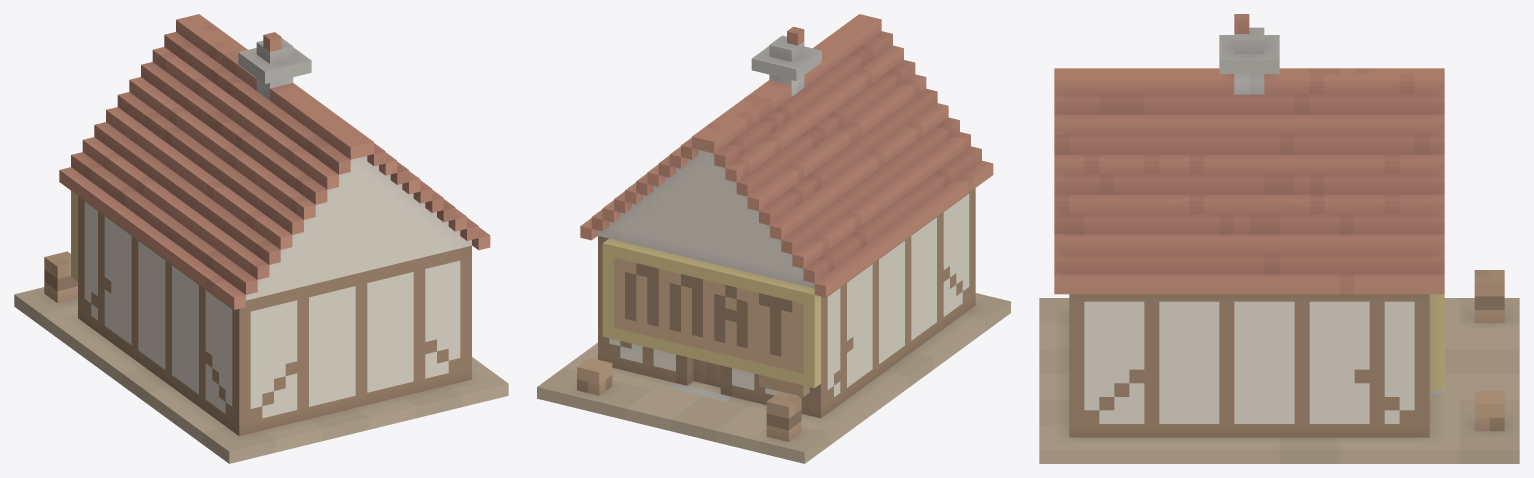
File: tannery.glb
The picture shows the model from 3 angles, left to right: view 1: azimuth 30°, elevation 25°; view 2: azimuth 150°, elevation 25°; view 3: azimuth 270°, elevation 25°; orthographic projection. The views are drawn at different scales.
Parts seen in each view (by area): view 1: tannery; view 2: tannery; view 3: tannery.
Part boxes in pixels (x1,y1,x2,y2): tannery: (14, 14, 508, 463); tannery: (537, 14, 1010, 463); tannery: (1039, 14, 1519, 463).
Bounding box in the file's own units: 3 × 3.38 × 4.
